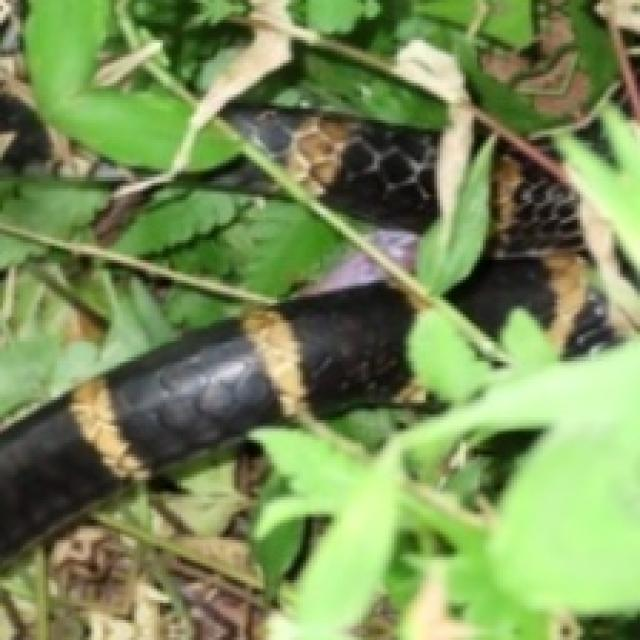king cobra: (0, 240, 637, 637), (0, 226, 137, 337), (134, 180, 286, 263), (0, 177, 106, 234)
